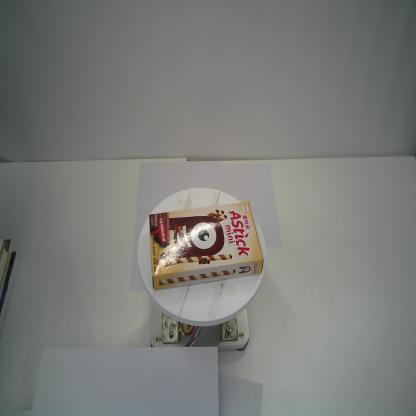Dessert: (149, 200, 264, 291)
